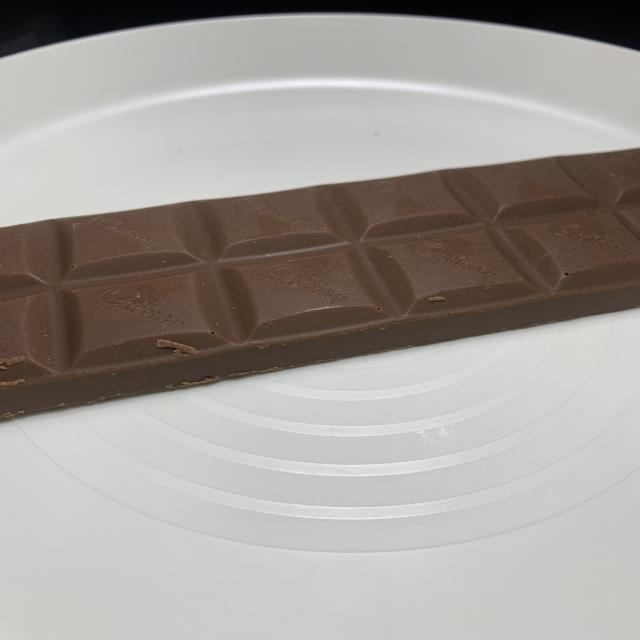Chocolate: (0, 146, 640, 427)
